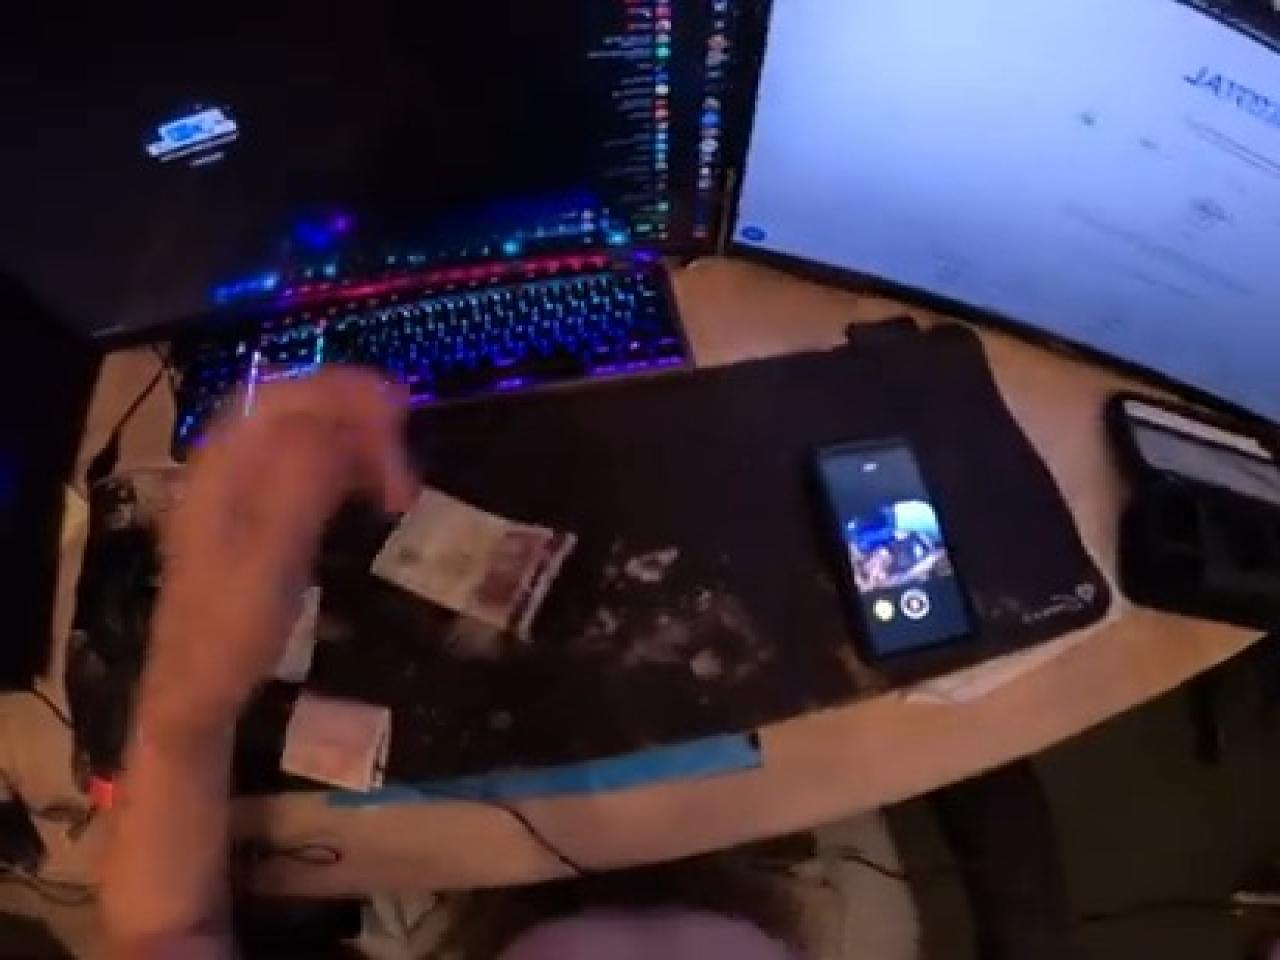50leva: (327, 483, 600, 749)
